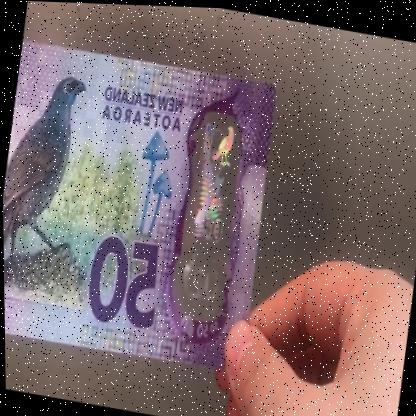50B: (172, 109, 242, 309)
